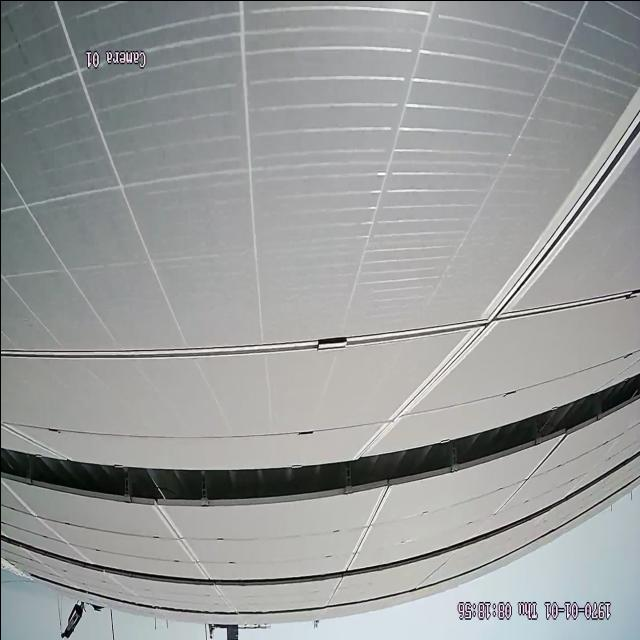interior panel: (6, 79, 640, 448), (490, 444, 557, 515), (345, 490, 394, 567), (155, 514, 211, 572)
outher panel: (0, 374, 640, 504)
